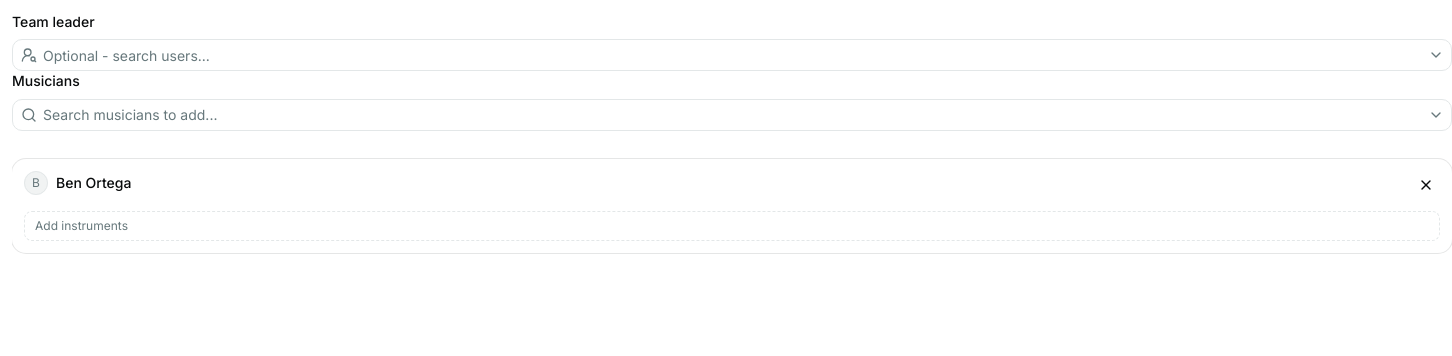
TeamMembershipFields › removes a musician when its remove button is clicked
Expected: the text "Add instruments" is shown, [31,218,132,234]
Click the button named "Remove Ben Ortega" at point(1426, 184), box [1412,170,1440,198]
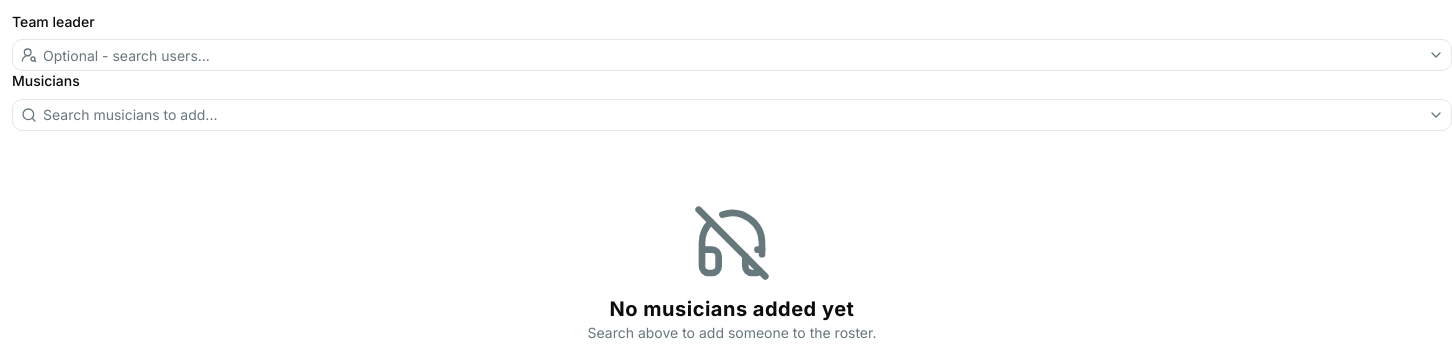
Result: the text "No musicians added yet" is shown at [610,296,854,320]
